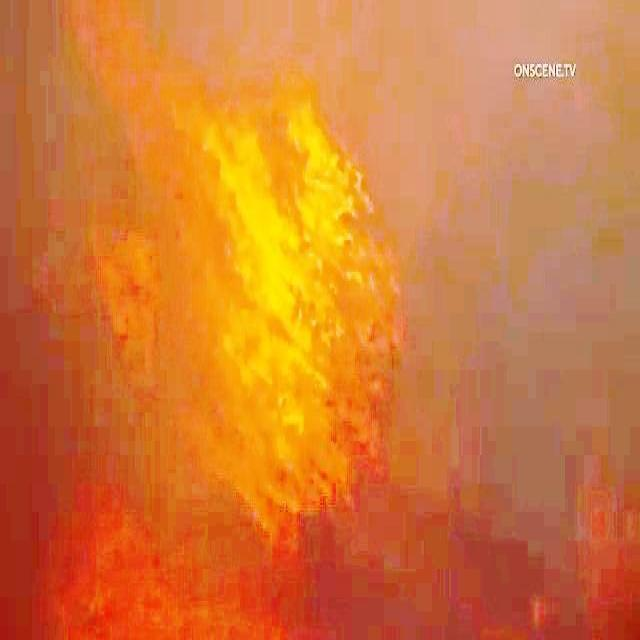Fire: (156, 70, 399, 508)
